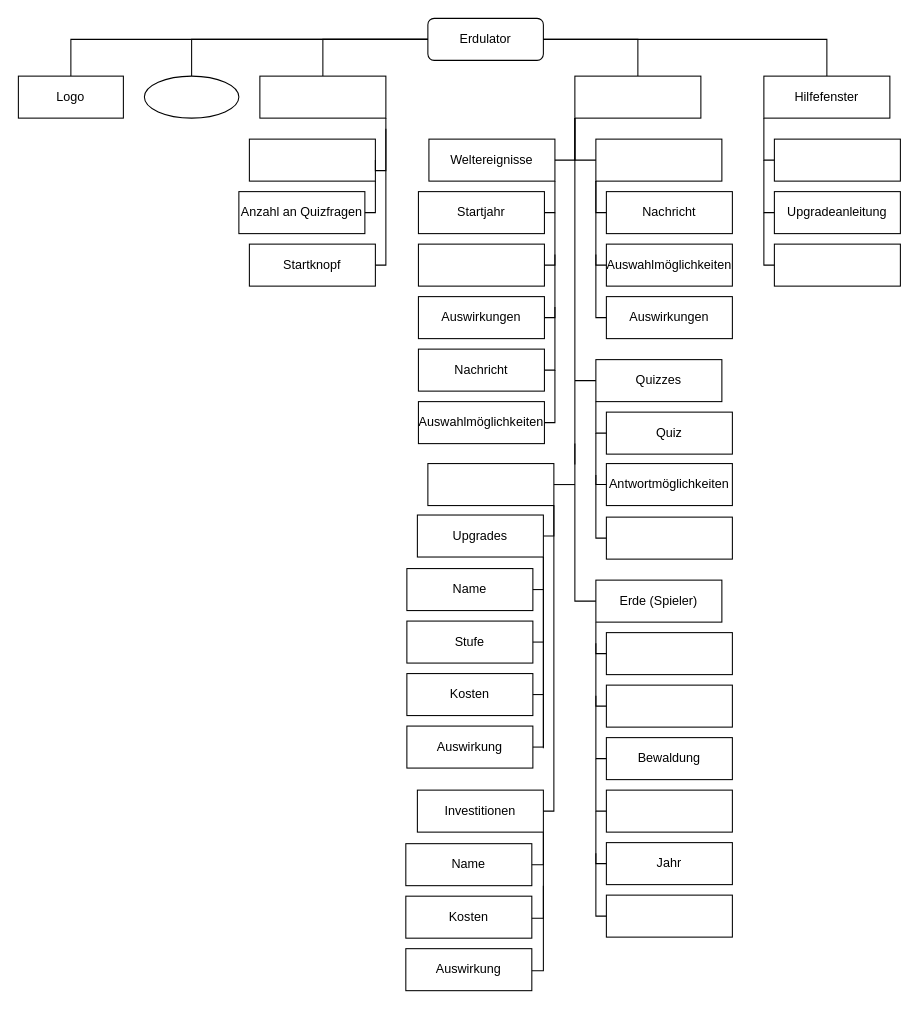
Image size: 919x1009. Some labels were removed from this diagram. Here are the shapes that lost their labels. From the top down, the centre of each, then its label:
At (x=191, y=96): "Musik".
At (x=322, y=96): "Startseite".
At (x=637, y=96): "Spielseite".
At (x=311, y=159): "Einstellungen".
At (x=658, y=159): "Ereignisse".
At (x=836, y=159): "Spielanleitung".
At (x=480, y=264): "Endjahr".
At (x=836, y=264): "Kurzbeschreibung".
At (x=490, y=484): "Upgradefenster".
At (x=668, y=537): "Belohnung".
At (x=668, y=653): "Temperatur".
At (x=668, y=705): "Weltbevölkerung".
At (x=668, y=810): "Wasserspiegel".
At (x=668, y=915): "Budget".
